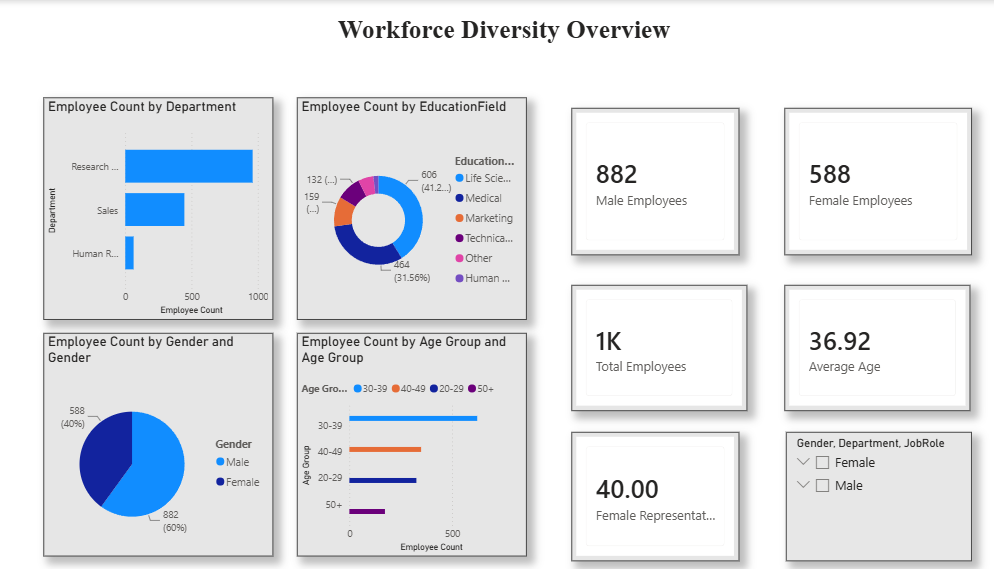

The page's visual inventory and layout, read from the dashboard file:
{"tool":"powerbi","page":{"name":"Workforce Diversity Overview","canvas":[1280,720],"ordinal":0},"visuals":[{"type":"pieChart","fields":{"Category":["dataset.Gender"],"Series":["dataset.Gender"],"Y":["dataset.Employee Count"]},"box":[54.8,419.5,289.1,281.6],"z":0},{"type":"clusteredBarChart","fields":{"Y":["dataset.Employee Count"],"Category":["dataset.Department"]},"box":[54.8,122.8,289,280],"z":1000},{"type":"clusteredBarChart","fields":{"Category":["dataset.Age Group"],"Series":["dataset.Age Group"],"Y":["dataset.Employee Count"]},"box":[374.2,419.5,289.1,281.6],"z":2000},{"type":"donutChart","fields":{"Category":["dataset.EducationField"],"Y":["dataset.Employee Count"]},"box":[374.2,122.8,289.1,279.7],"z":3000},{"type":"cardVisual","fields":{"Data":["dataset.Total Employees"]},"box":[720,359.1,221.1,158.7],"z":4000},{"type":"cardVisual","fields":{"Data":["dataset.Male Employees"]},"box":[720,136.1,211.7,185.2],"z":5000},{"type":"cardVisual","fields":{"Data":["dataset.Female Employees"]},"box":[988.4,136.1,236.2,185.2],"z":6000},{"type":"cardVisual","fields":{"Data":["dataset.Average Age"]},"box":[988.4,359.1,234.3,158.7],"z":7000},{"type":"cardVisual","fields":{"Data":["dataset.Female Representation %"]},"box":[720,544.3,211.7,162.5],"z":8000},{"type":"slicer","fields":{"Values":["dataset.Gender","dataset.Department","dataset.JobRole"]},"box":[990.2,544.3,234.3,162.5],"z":9000},{"type":"textbox","box":[0,13.2,1279.4,45.4],"z":10000}]}

Visuals, with their boxes in screenshot pixels (x1, y1, x2, y2), scaled from the page's 1280x720 canvas onto the 994x569 screenshot:
pieChart - dataset.Gender x dataset.Gender: bbox=(43, 332, 267, 554)
clusteredBarChart - dataset.Employee Count x dataset.Department: bbox=(43, 97, 267, 318)
clusteredBarChart - dataset.Age Group x dataset.Age Group: bbox=(291, 332, 515, 554)
donutChart - dataset.EducationField x dataset.Employee Count: bbox=(291, 97, 515, 318)
cardVisual - dataset.Total Employees: bbox=(559, 284, 731, 409)
cardVisual - dataset.Male Employees: bbox=(559, 108, 724, 254)
cardVisual - dataset.Female Employees: bbox=(768, 108, 951, 254)
cardVisual - dataset.Average Age: bbox=(768, 284, 950, 409)
cardVisual - dataset.Female Representation %: bbox=(559, 430, 724, 559)
slicer - dataset.Gender x dataset.Department: bbox=(769, 430, 951, 559)
textbox: bbox=(0, 10, 993, 46)
